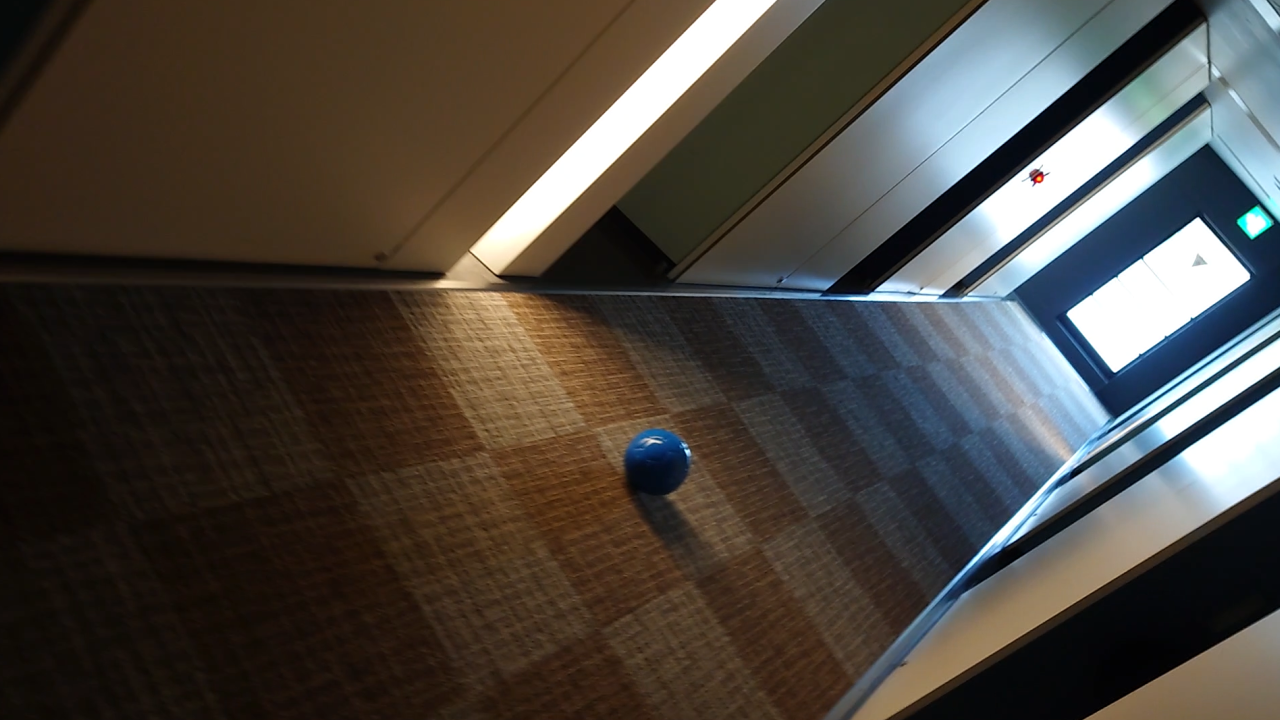blue: (619, 427, 691, 496)
